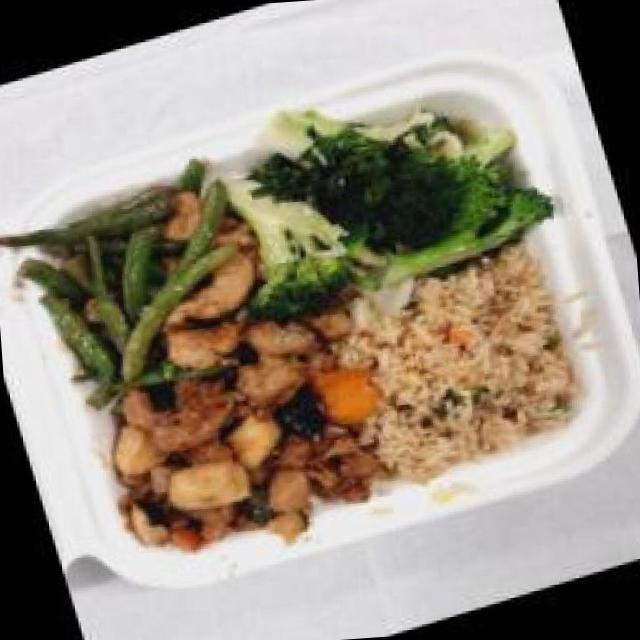Fried Rice: (315, 228, 610, 497)
Kung Pao Chicken: (67, 292, 414, 588)
String Bean Chicken Breast: (4, 153, 291, 421)
Super Greens: (215, 51, 563, 336)
